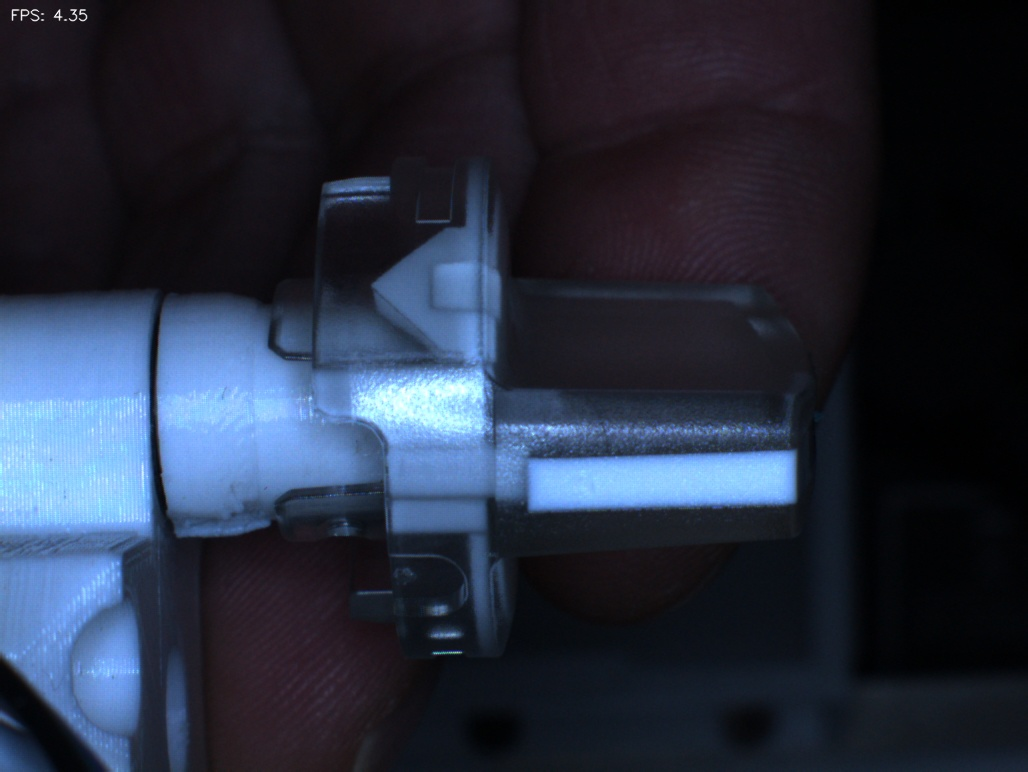DentOk: (347, 247, 420, 349)
